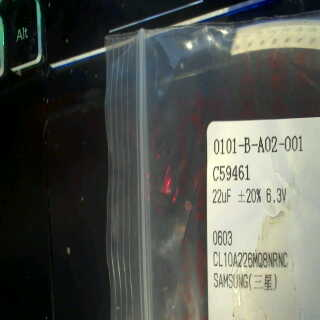22uF: (210, 186, 235, 207)
